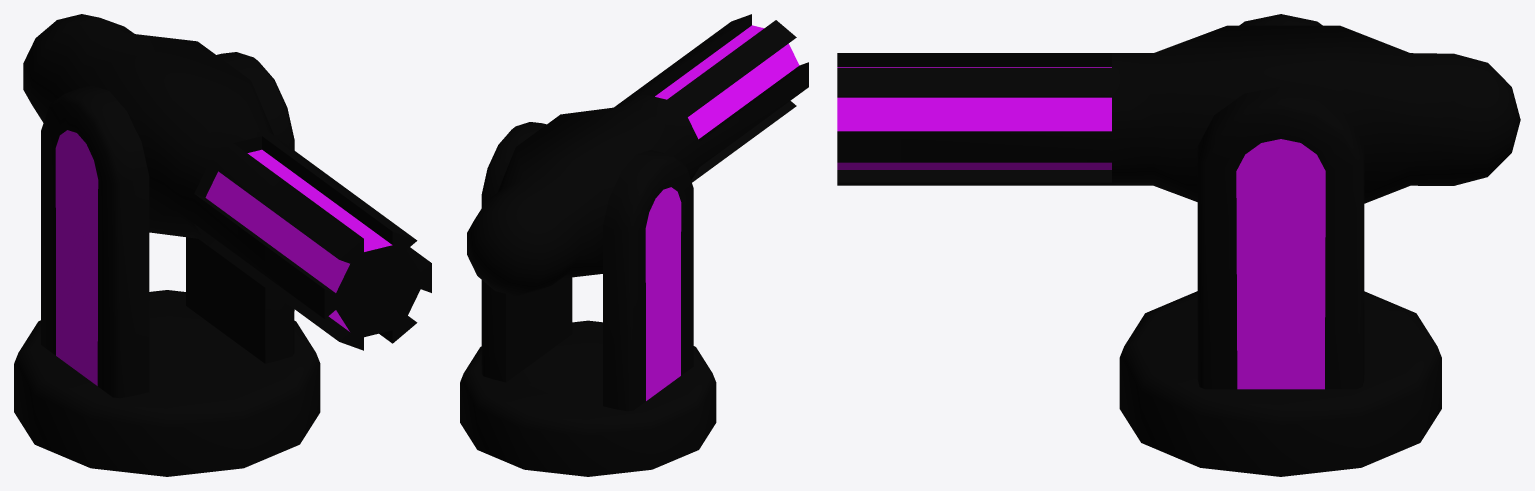
The model's file is Turret 1.FBX.
The picture shows the model from 3 angles, left to right: view 1: azimuth 30°, elevation 25°; view 2: azimuth 150°, elevation 25°; view 3: azimuth 270°, elevation 25°; orthographic projection. The views are drawn at different scales.
Parts seen in each view (by area): view 1: TurretBase, TurretBarrel; view 2: TurretBase, TurretBarrel; view 3: TurretBase, TurretBarrel.
Part boxes in pixels (x1,y1,x2,y2): TurretBase: (14,52,320,476); TurretBarrel: (23,14,431,350); TurretBase: (460,122,716,476); TurretBarrel: (467,14,808,295); TurretBase: (1119,14,1441,476); TurretBarrel: (837,25,1520,203).
Bounding box in the file's own units: 34.43 × 72.99 × 41.67.
